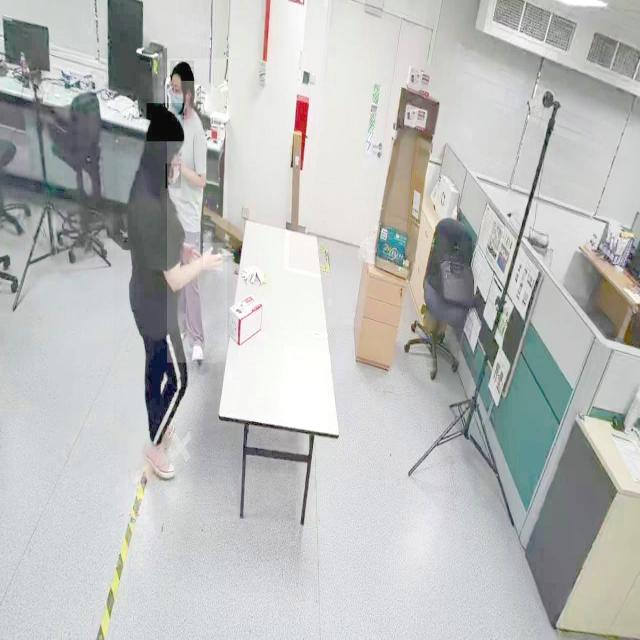face_mask: (170, 81, 187, 115), (165, 164, 181, 188)
hand_noglove: (203, 243, 223, 271), (180, 239, 201, 264)
head_nohelmet: (146, 103, 184, 142), (170, 60, 194, 82)
person: (114, 99, 218, 488), (167, 59, 228, 362)
shoes: (143, 432, 180, 485), (188, 332, 204, 367)
